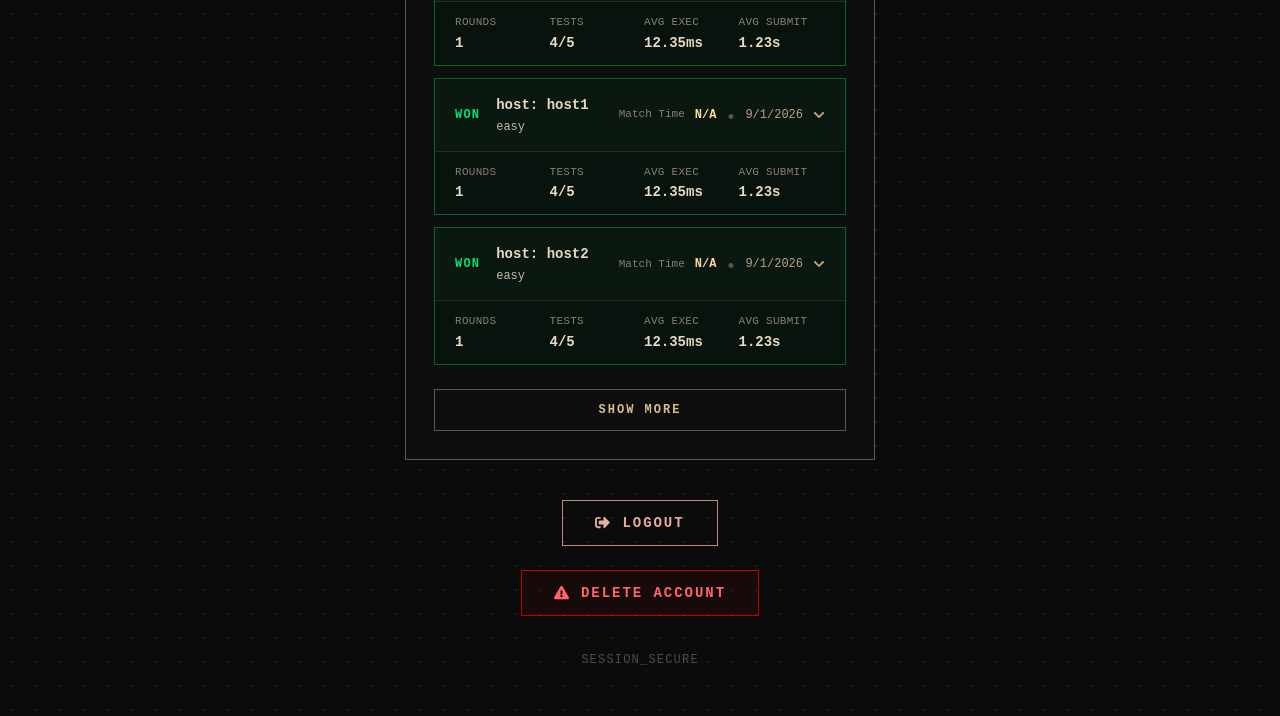
Test: Profile match history › reopening the modal after loading more still shows the full match list
(page scrolled)
Click the button "SHOW MORE". click: (640, 410)
box: [434,388,846,430]
(page scrolled)
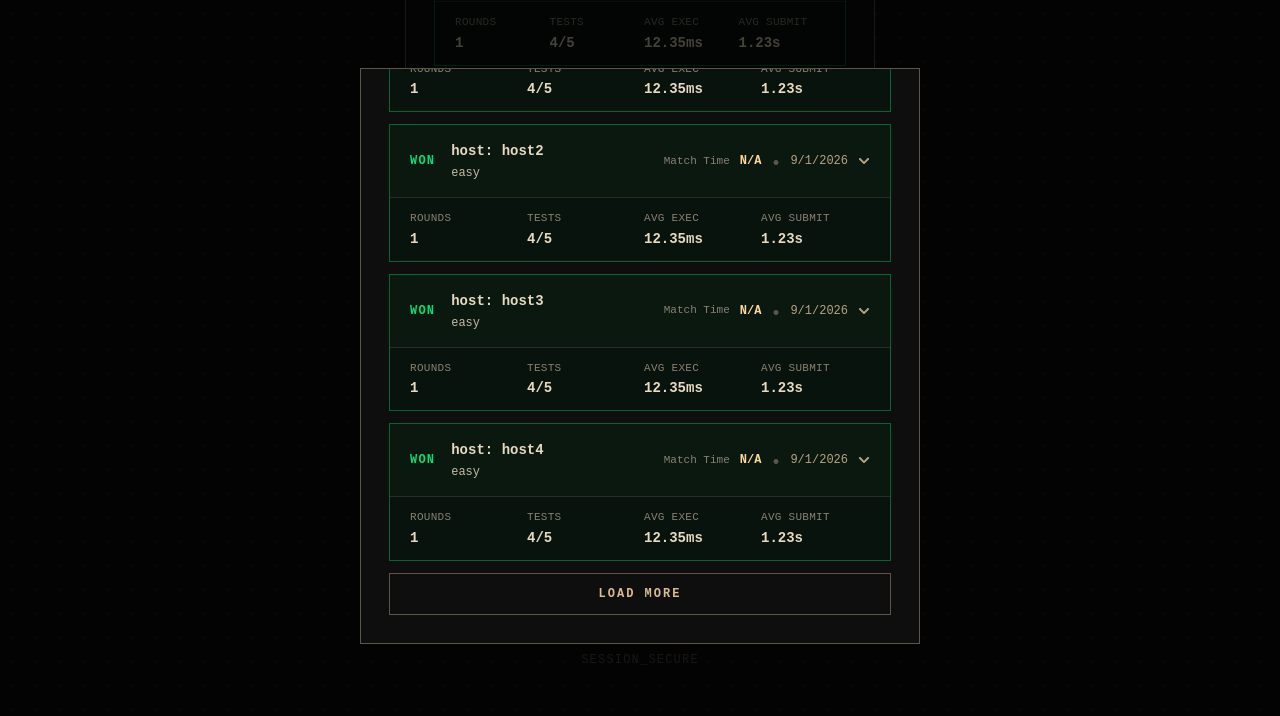
Click the button "LOAD MORE". click: (640, 594)
box: [389,572,891,614]
(page scrolled)
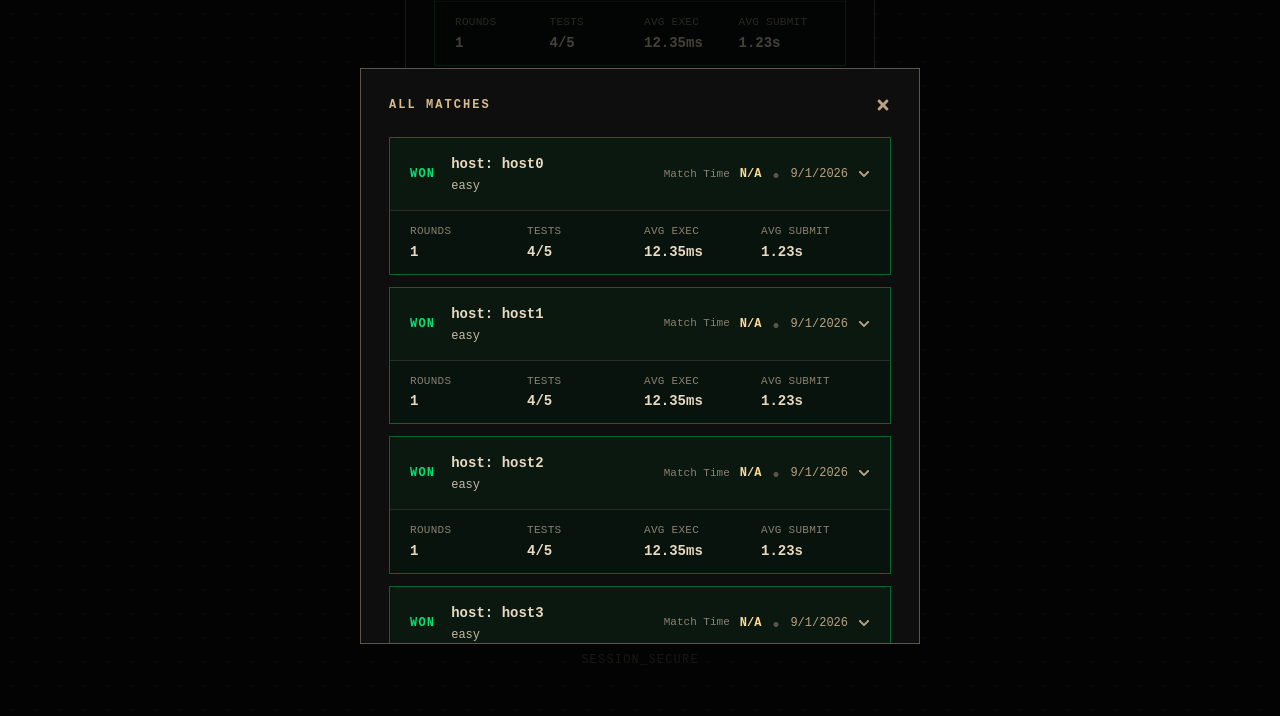
Click the 1st button. click: (883, 105)
box: [875,97,891,113]
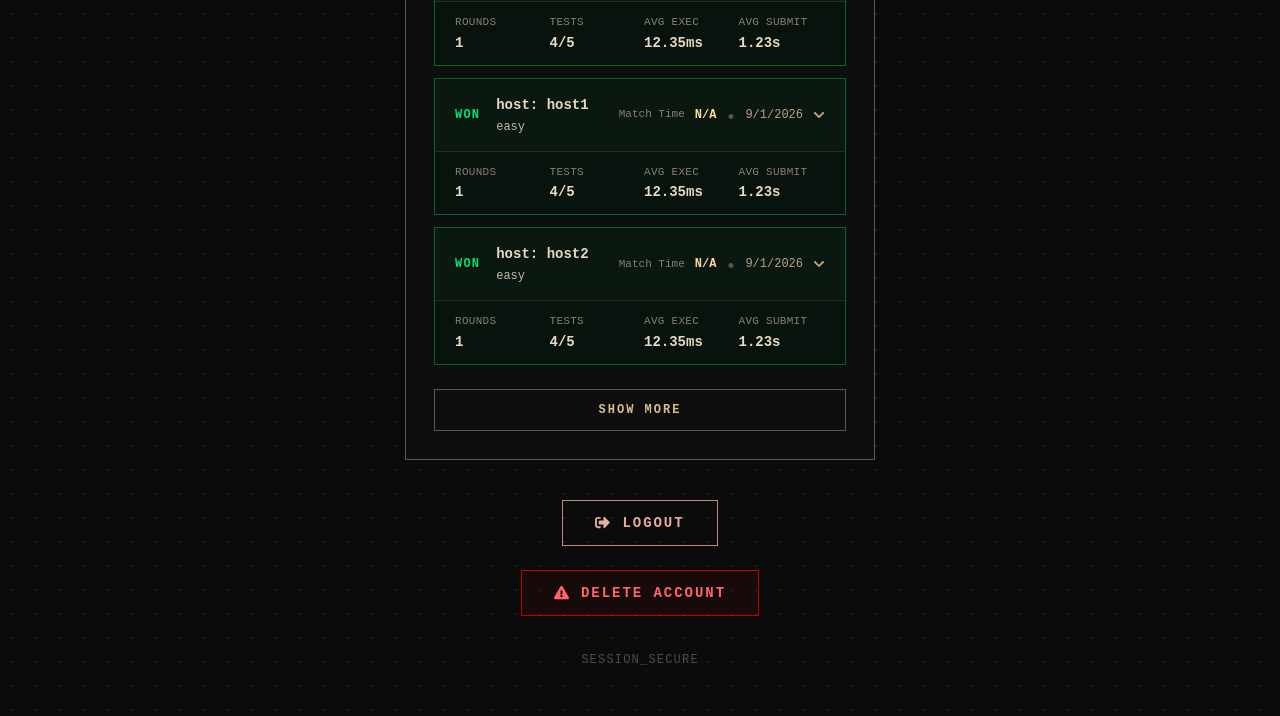
Click the button "SHOW MORE". click: (640, 410)
box: [434,388,846,430]
(page scrolled)
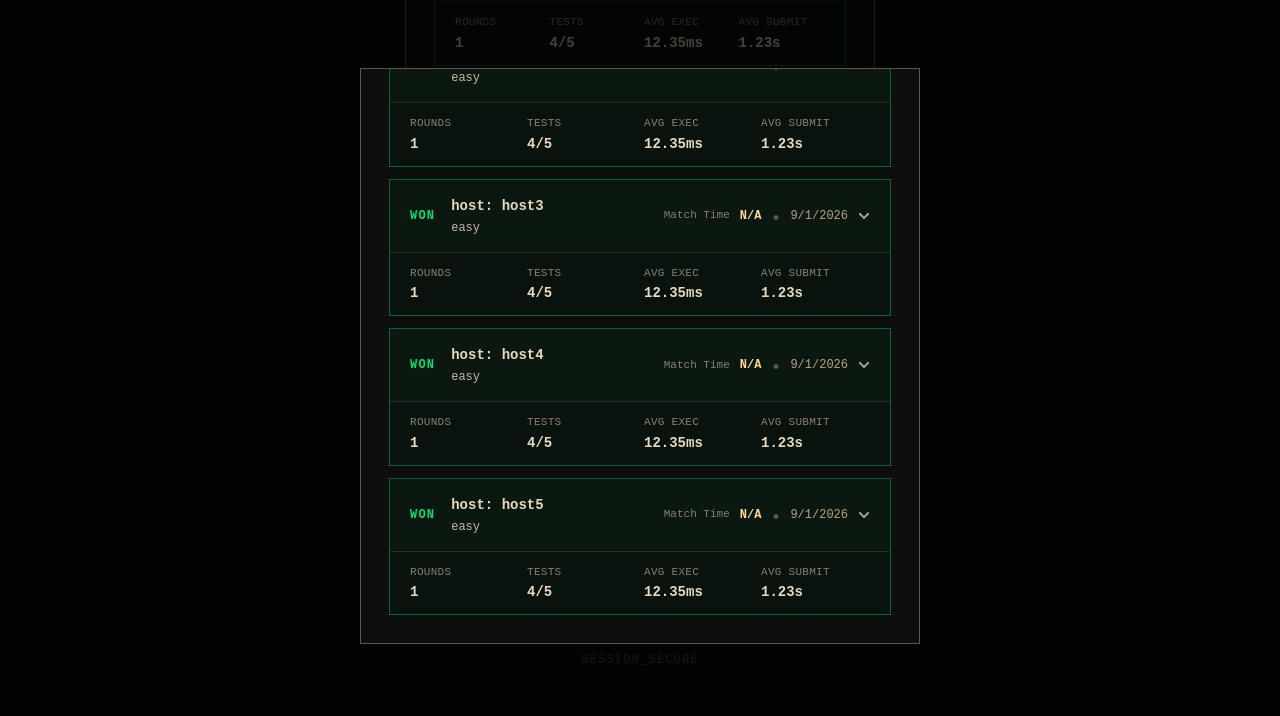
Expected: the text "host: host5" is shown, [451,494,544,514]
